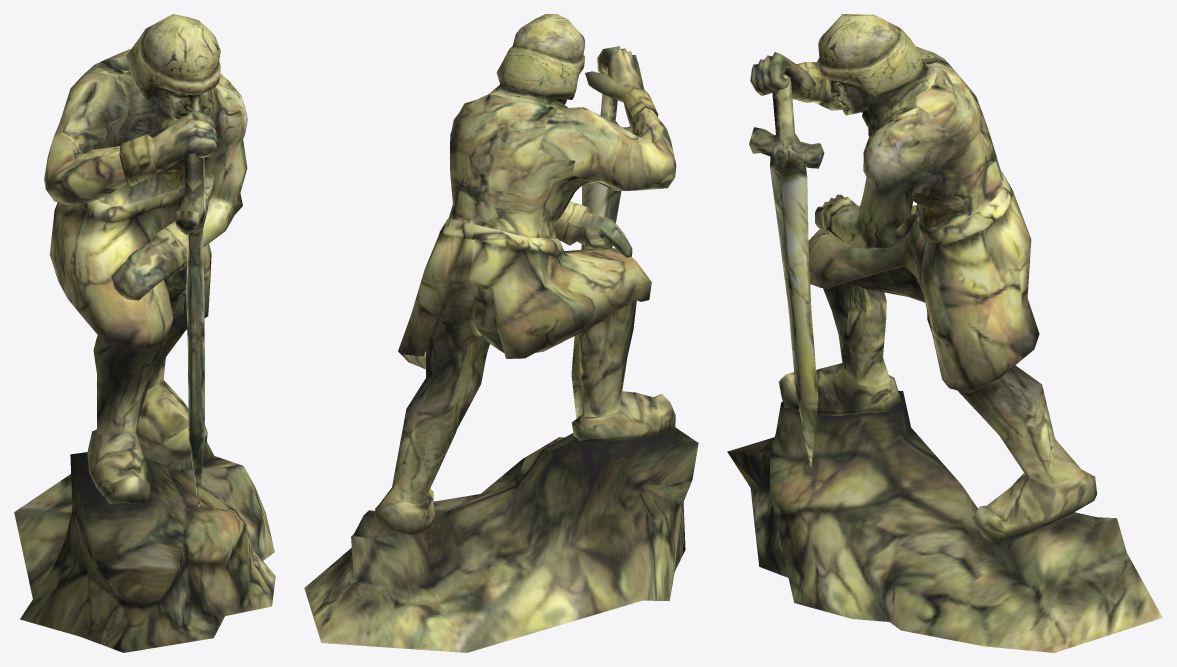
The model's file is Statue.fbx.
The picture shows the model from 3 angles, left to right: view 1: azimuth 30°, elevation 25°; view 2: azimuth 150°, elevation 25°; view 3: azimuth 270°, elevation 25°; orthographic projection. The views are drawn at different scales.
Visible parts, largest first — view 1: Body, Limbs; view 2: Body, Limbs; view 3: Body, Limbs.
Boxes of the visible parts, left/top/right/bottom form: Body: left=14, top=49, right=275, bottom=652; Limbs: left=44, top=14, right=247, bottom=503; Body: left=304, top=46, right=698, bottom=652; Limbs: left=375, top=14, right=676, bottom=534; Body: left=727, top=52, right=1162, bottom=652; Limbs: left=779, top=14, right=1096, bottom=543.
Bounding box in the file's own units: 806 × 1440 × 1015.
2 materials, 2 textured.
